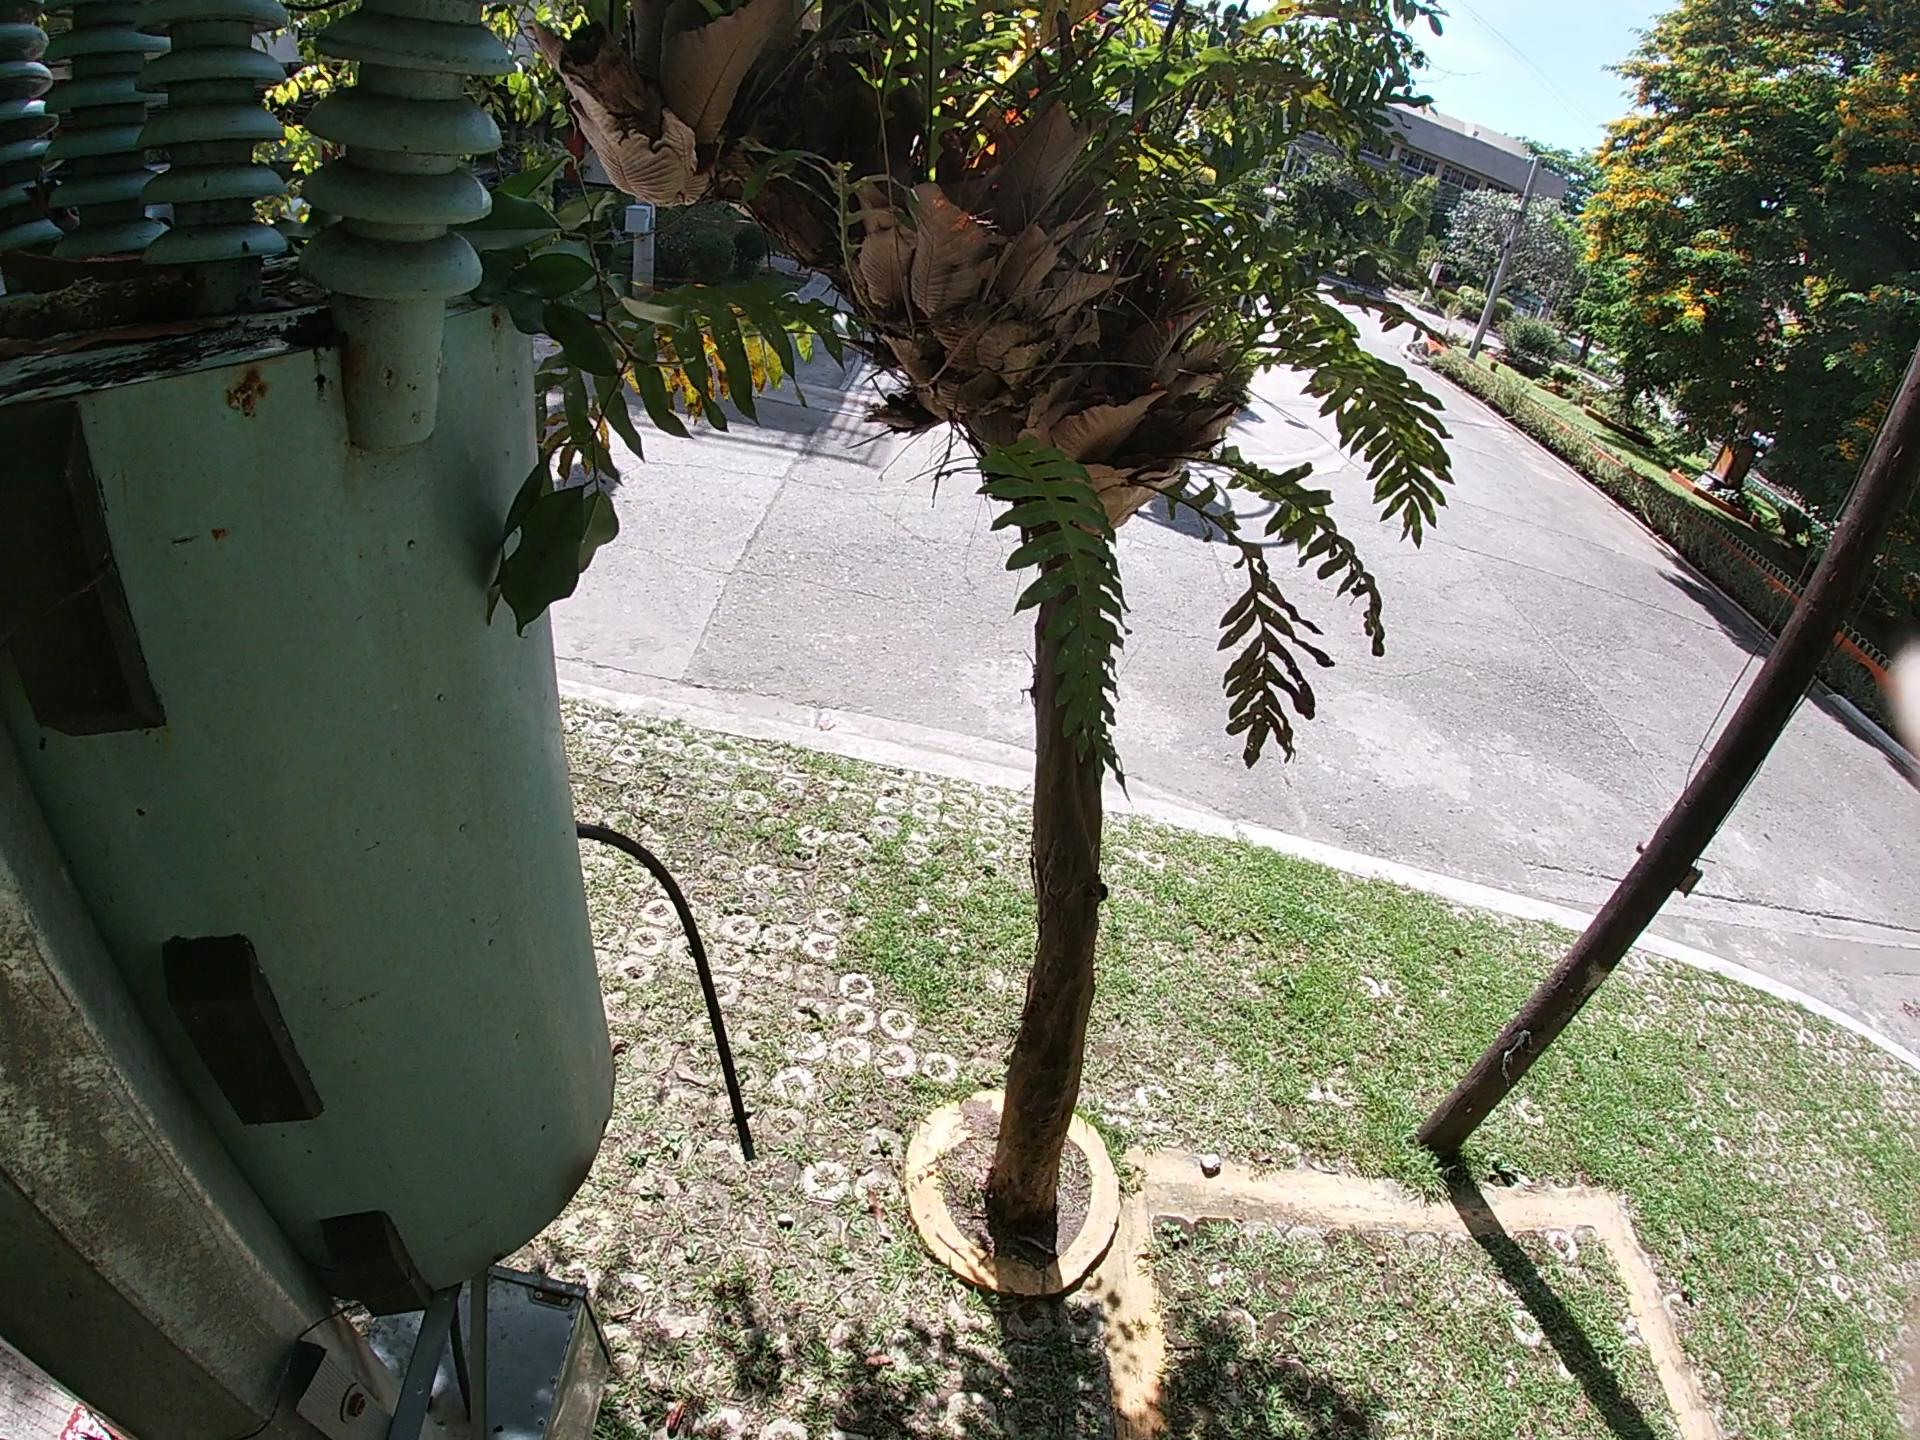branch with leaves: (478, 159, 698, 638)
leaf: (67, 322, 234, 346)
mahogany fruit: (42, 234, 160, 274)
tree branch: (2, 287, 195, 306)
